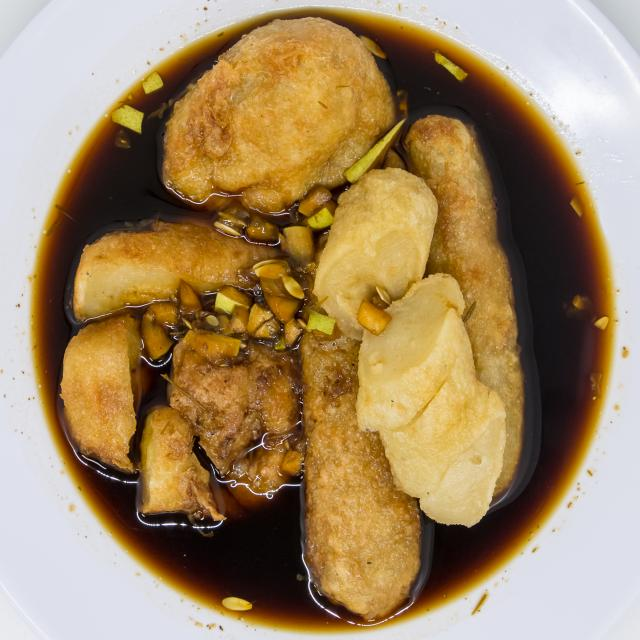Pempek-Palembang: (50, 15, 535, 628)
